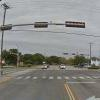Crosswalk: (22, 68, 100, 93)
